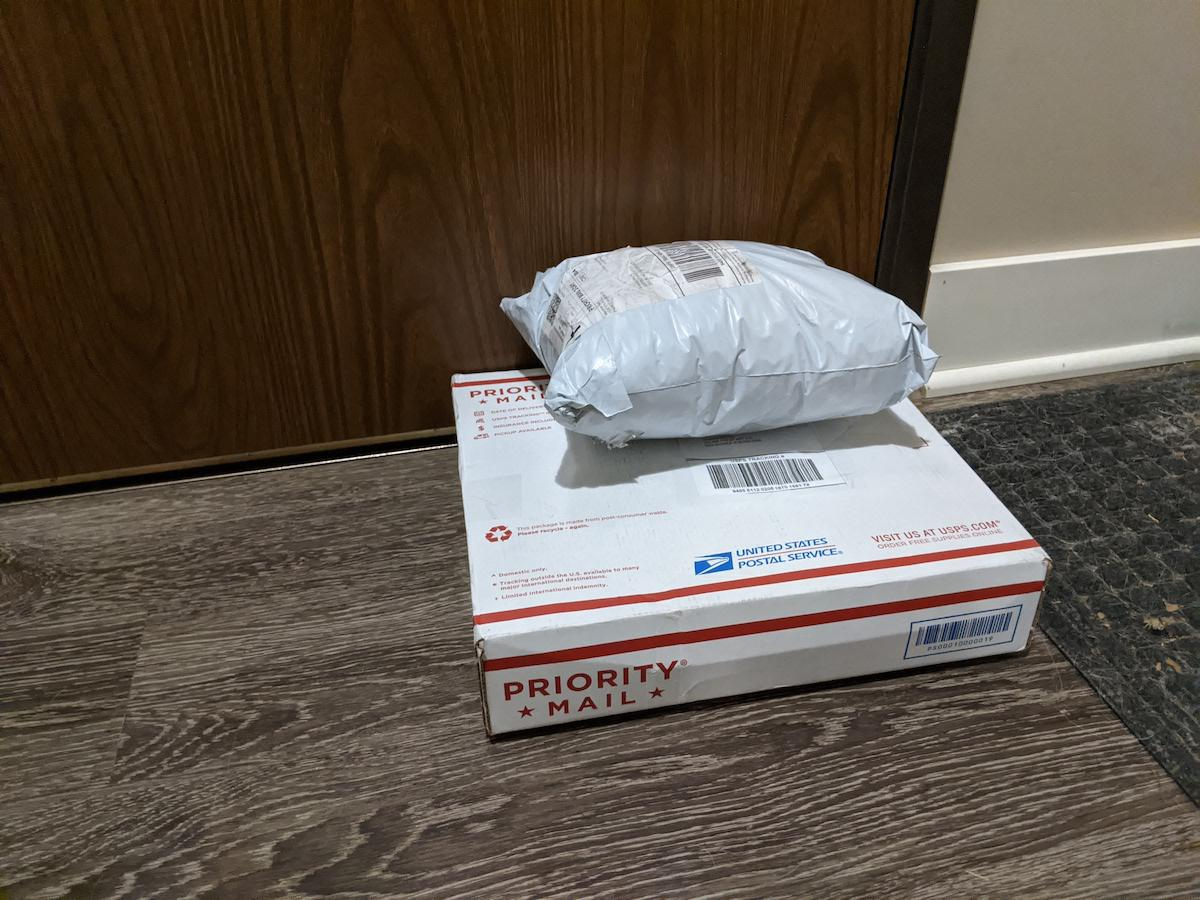package: (442, 363, 1054, 747), (483, 230, 941, 448)
